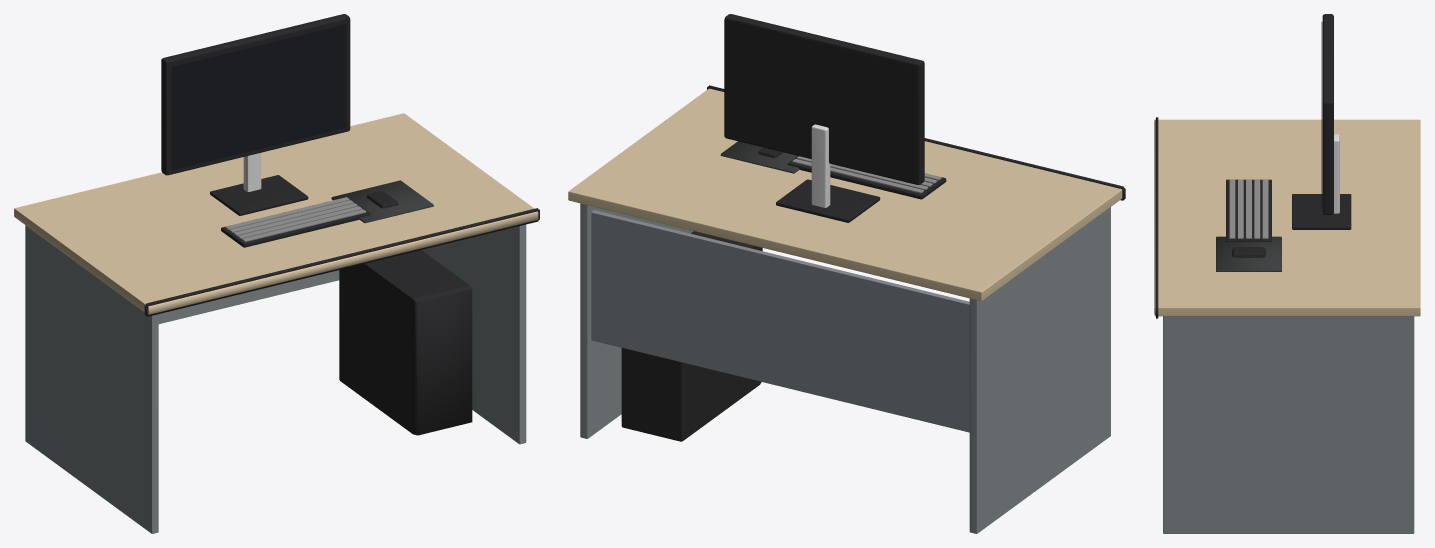
The model's file is industrial.workshop.parts_computer.glb.
3 renders of one model, left to right at view 1: azimuth 30°, elevation 25°; view 2: azimuth 150°, elevation 25°; view 3: azimuth 270°, elevation 25°, orthographic. The views are drawn at different scales.
Parts seen in each view (by area): view 1: main__timber_dca, main__paint_889, main__paint_222, main__paint_122, main__paint_999, main__paint_333, main__galv_eee; view 2: main__paint_889, main__timber_dca, main__paint_222, main__galv_eee, main__paint_333, main__paint_999; view 3: main__paint_889, main__timber_dca, main__paint_222, main__paint_999, main__paint_333, main__galv_eee, main__paint_122.
Boxes of the visible parts, x1=… form: main__timber_dca: x1=14, y1=113, x2=538, y2=314; main__paint_889: x1=25, y1=224, x2=526, y2=533; main__paint_222: x1=144, y1=14, x2=539, y2=435; main__paint_122: x1=172, y1=24, x2=346, y2=170; main__paint_999: x1=225, y1=197, x2=366, y2=242; main__paint_333: x1=331, y1=180, x2=433, y2=223; main__galv_eee: x1=243, y1=153, x2=261, y2=191; main__paint_889: x1=580, y1=203, x2=1110, y2=533; main__timber_dca: x1=568, y1=88, x2=1122, y2=301; main__paint_222: x1=621, y1=14, x2=1125, y2=441; main__galv_eee: x1=811, y1=124, x2=830, y2=207; main__paint_333: x1=720, y1=141, x2=799, y2=173; main__paint_999: x1=792, y1=156, x2=941, y2=193; main__paint_889: x1=1163, y1=316, x2=1414, y2=533; main__timber_dca: x1=1154, y1=119, x2=1420, y2=316; main__paint_222: x1=1155, y1=14, x2=1351, y2=318; main__paint_999: x1=1229, y1=179, x2=1268, y2=238; main__paint_333: x1=1216, y1=236, x2=1281, y2=271; main__galv_eee: x1=1334, y1=134, x2=1339, y2=213; main__paint_122: x1=1321, y1=22, x2=1322, y2=206.
Size of the model in its own units: 1.36 by 1.29 by 0.807.
